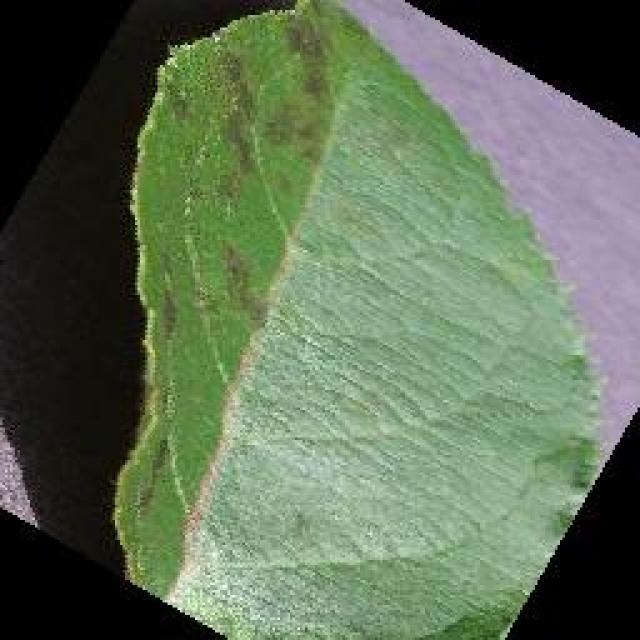apple scab disease: (108, 0, 610, 638)
